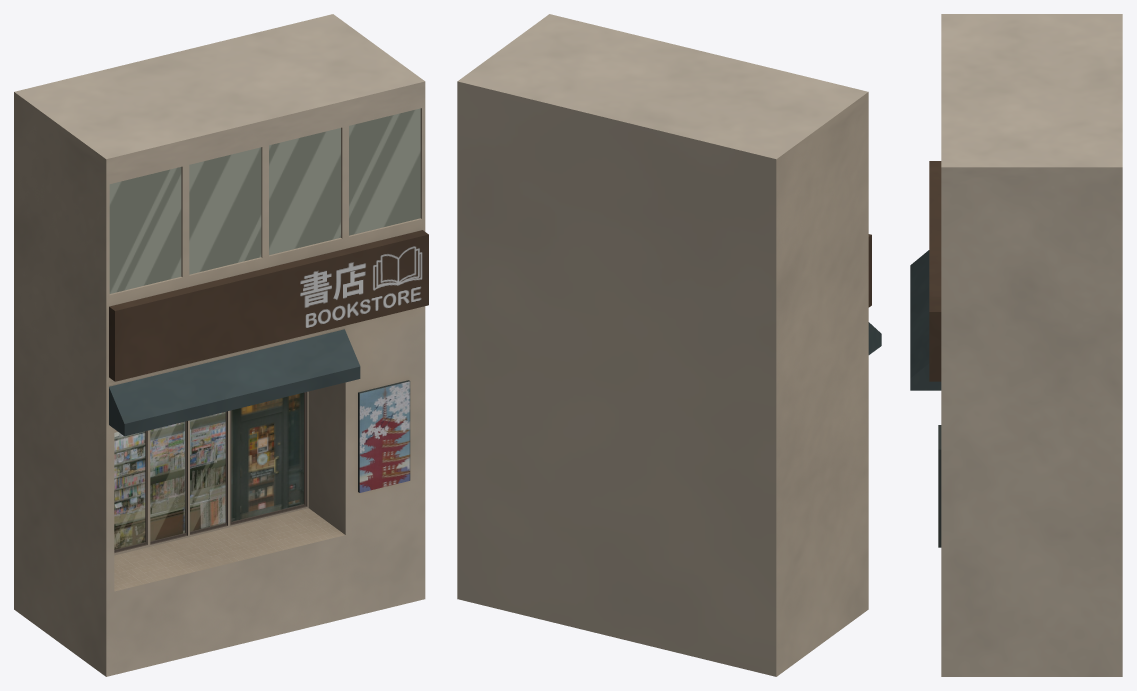
The model's file is shop02.dae.
The picture shows the model from 3 angles, left to right: view 1: azimuth 30°, elevation 25°; view 2: azimuth 150°, elevation 25°; view 3: azimuth 270°, elevation 25°; orthographic projection.
Visible parts, largest first — view 1: shop02; view 2: shop02; view 3: shop02.
Part boxes in pixels (bbox=[...]): shop02: bbox=[14, 14, 428, 676]; shop02: bbox=[457, 14, 881, 676]; shop02: bbox=[910, 14, 1122, 676].
Bounding box in the file's own units: 4 × 6.2 × 2.34.
